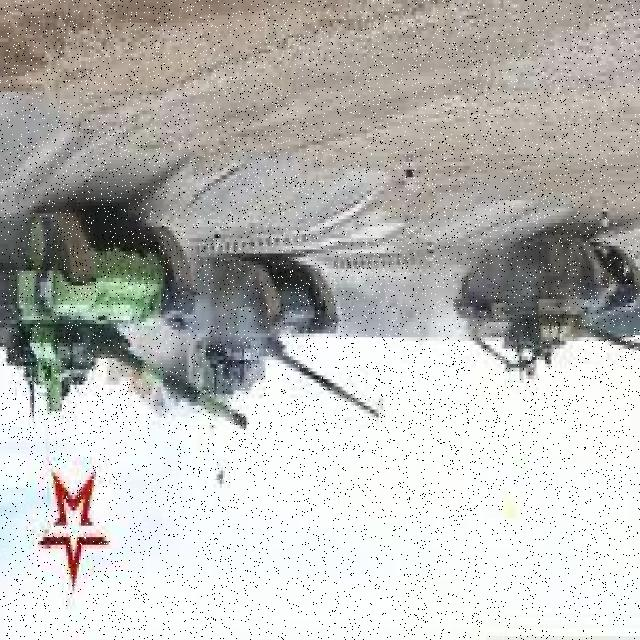MIL_MBT: (394, 128, 633, 454), (135, 198, 395, 478), (15, 122, 177, 445)
